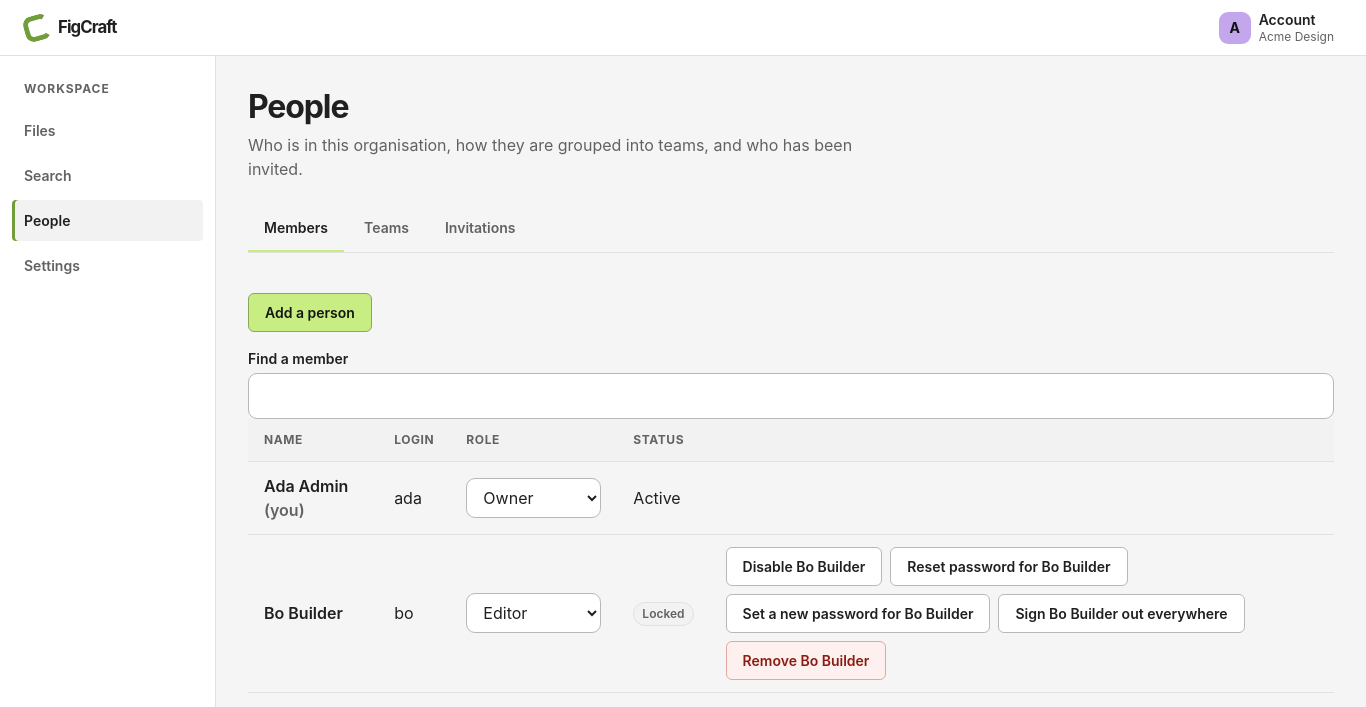
Scenario: running the team from the browser › shows why adding a person failed
This screenshot has width=1366, height=707.
Click the button with test id "addperson-open".
click(310, 312)  # box [248, 293, 372, 332]
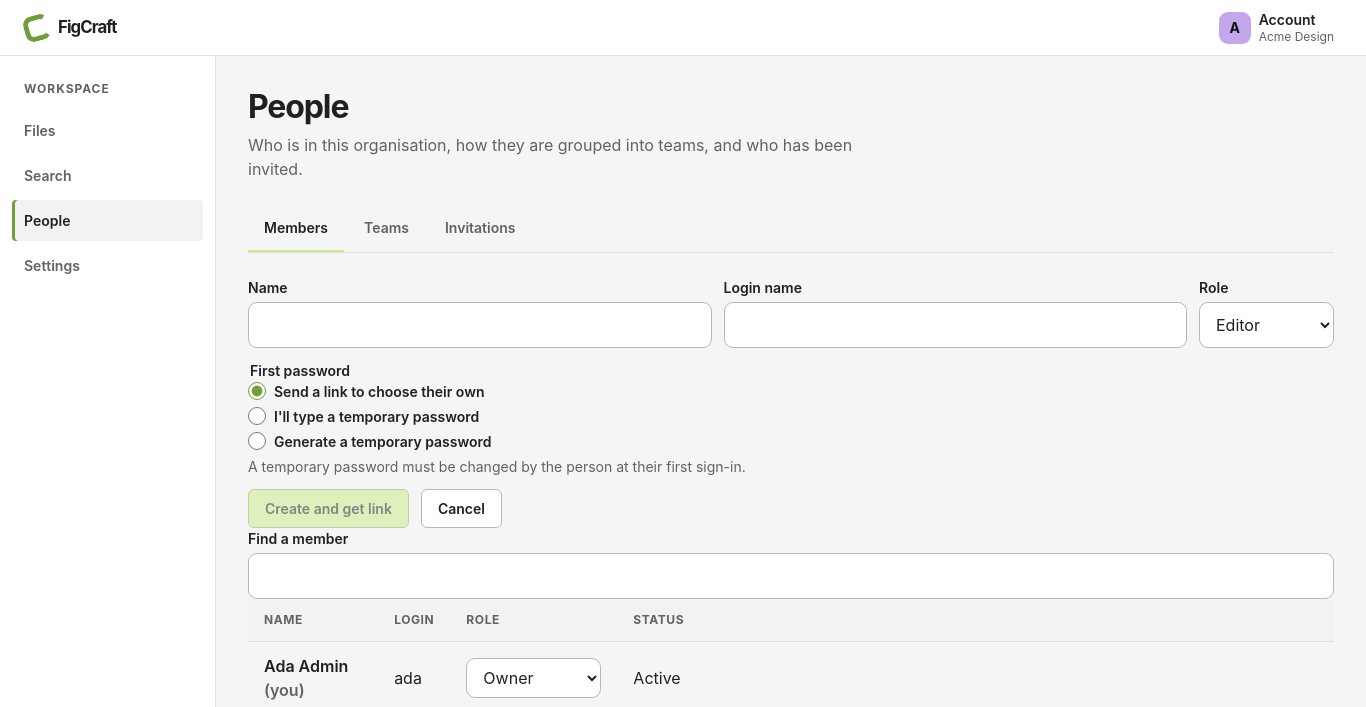
Type "Bo" into the field with test id "addperson-name".
click(480, 325); type("Bo")  # box [248, 302, 712, 348]
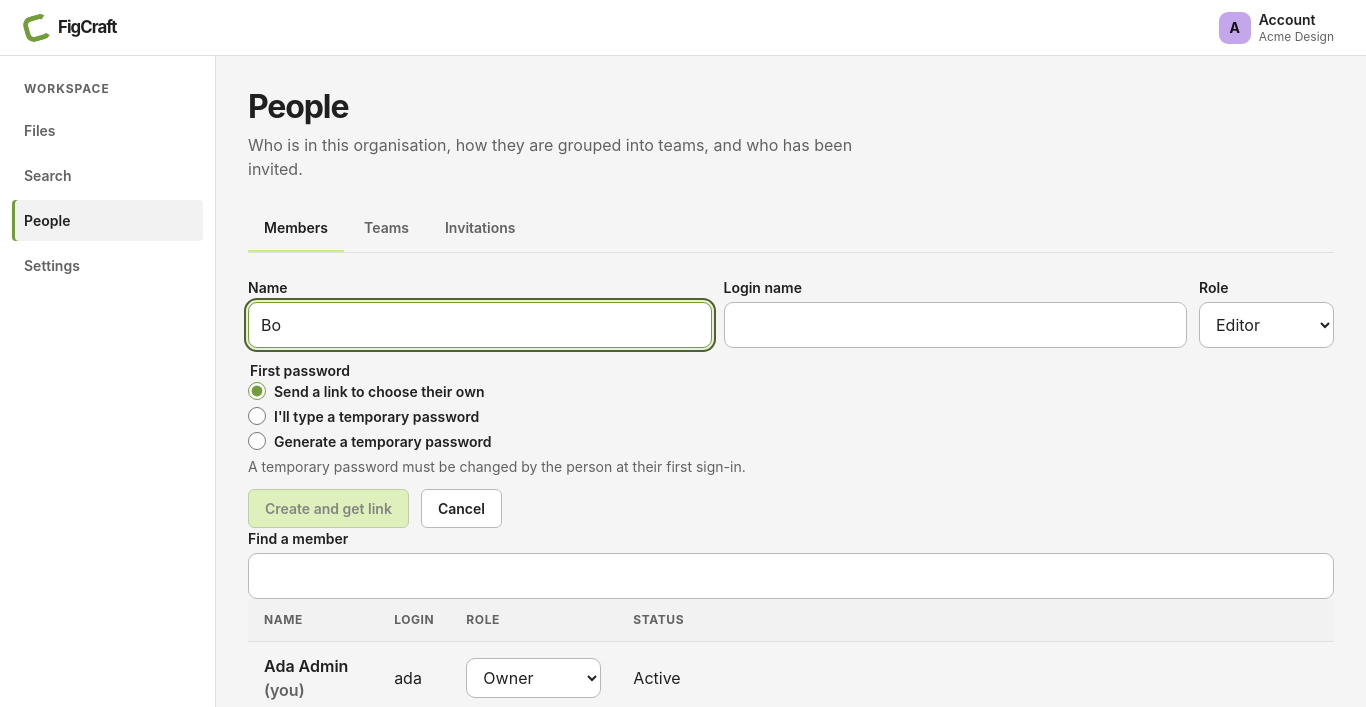
Type "bo" into the field with test id "addperson-login".
click(955, 325); type("bo")  # box [724, 302, 1187, 348]
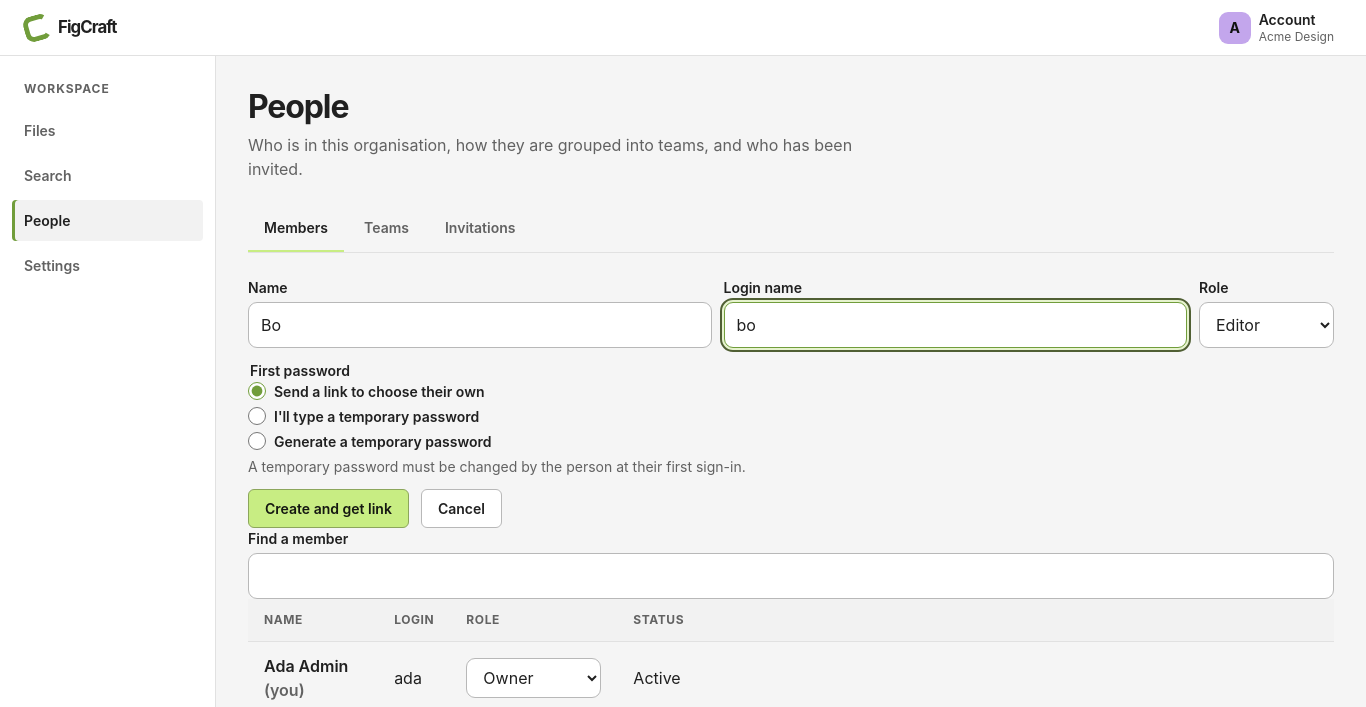
Click the button with test id "addperson-submit".
click(328, 508)  # box [248, 489, 409, 528]
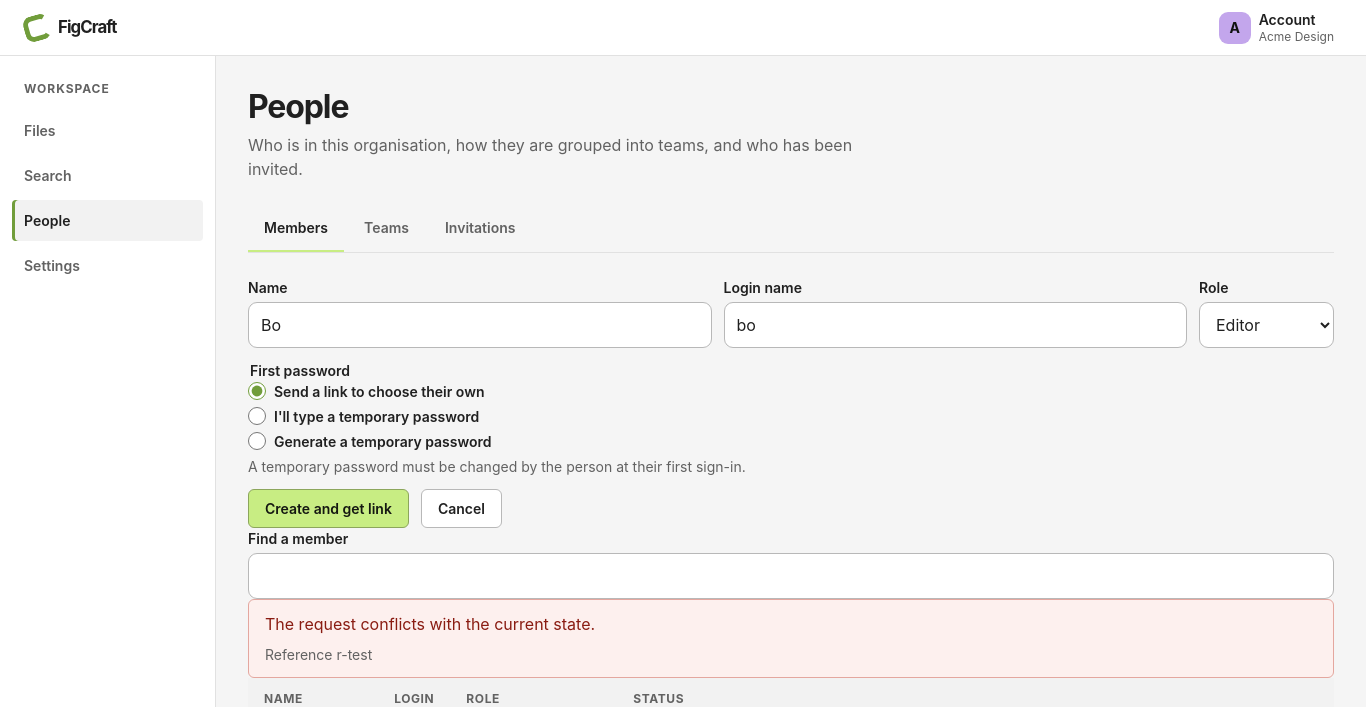
Result: the message shows "conflicts with the current state" at [265, 614, 595, 634]
